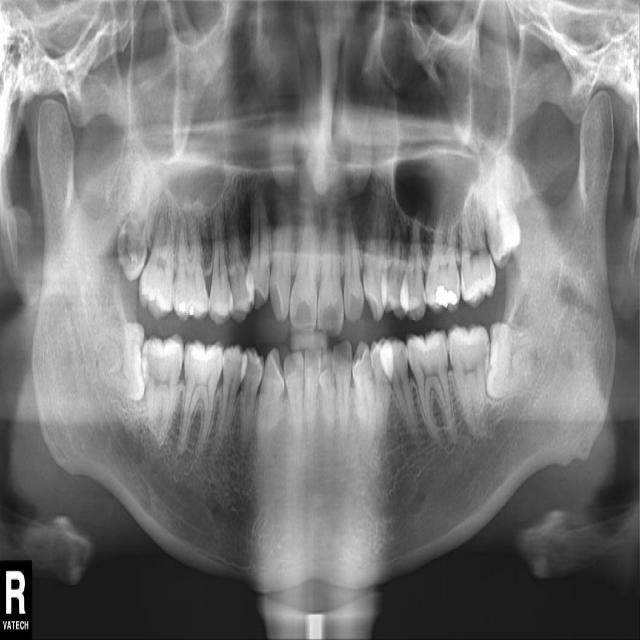3M ESPE Implant: (112, 162, 159, 282)
52: (170, 270, 212, 324), (422, 271, 461, 315), (119, 213, 145, 269)
73: (616, 613, 623, 619)
BioHorizons Implant: (460, 183, 496, 308)
BioLife Implant: (476, 155, 525, 270)
Biomet 3i Implant: (484, 323, 545, 400)
Blue Sky Bio Implant: (445, 323, 490, 437)
Caries: (138, 185, 178, 321)
Implant: (143, 333, 184, 447)
Keystone Dental Implant: (91, 322, 151, 399)
